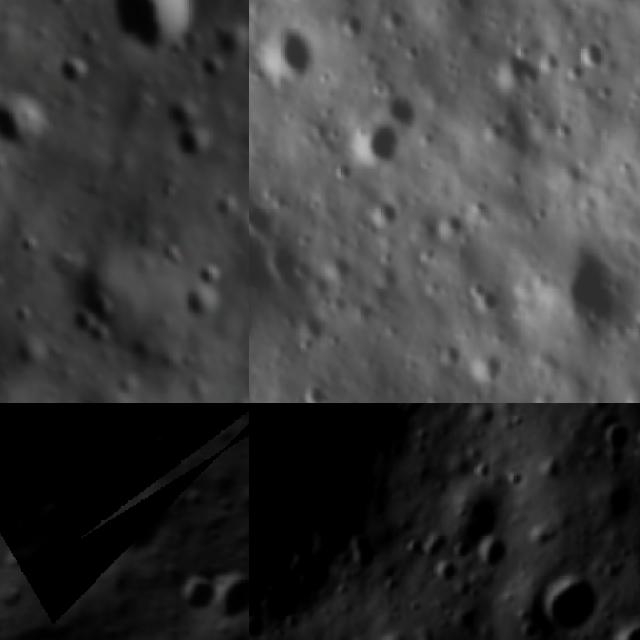crater: (0, 403, 102, 501), (441, 476, 523, 561), (106, 0, 204, 64), (533, 569, 613, 640), (63, 274, 131, 354), (162, 564, 227, 632), (0, 82, 51, 155), (258, 25, 314, 86), (207, 563, 249, 640), (586, 480, 636, 537), (177, 280, 231, 325), (530, 449, 575, 494), (343, 534, 381, 585), (52, 52, 99, 92), (159, 92, 206, 132), (597, 416, 640, 459), (472, 533, 516, 575), (170, 124, 215, 164), (210, 17, 249, 61), (360, 123, 402, 163), (572, 43, 615, 72), (198, 257, 230, 293), (198, 55, 235, 86), (430, 559, 462, 593), (400, 533, 427, 566), (611, 611, 640, 640), (583, 403, 623, 421), (249, 609, 271, 640), (381, 628, 418, 640)
